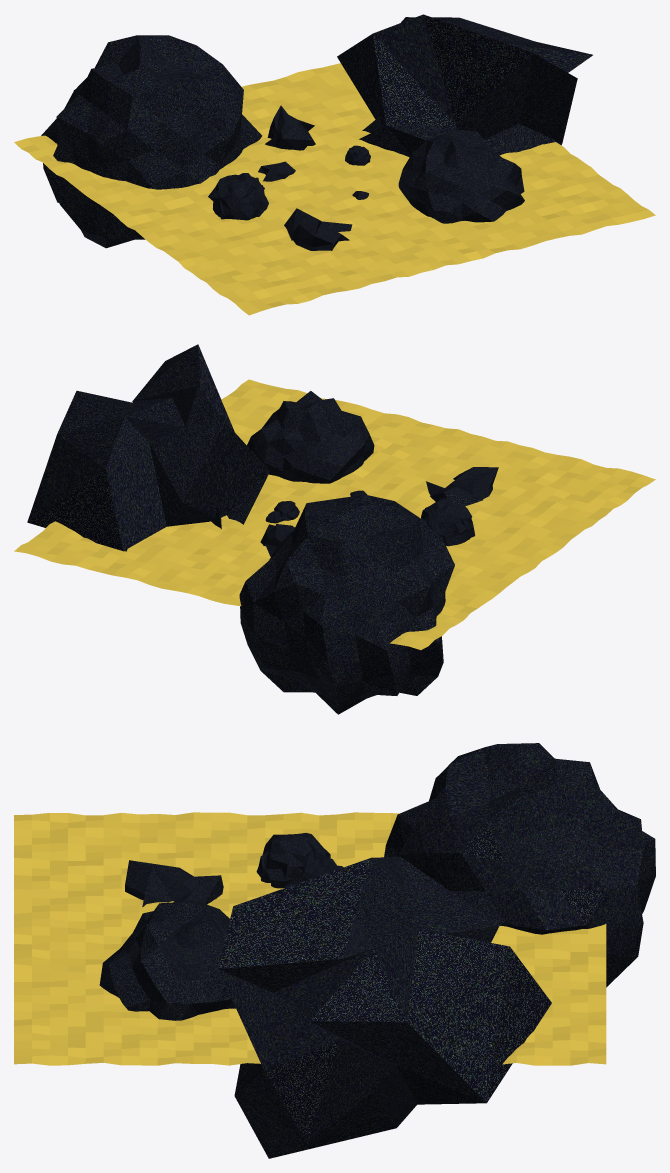
File: OceanTerrain.glb
3 views of the same model, one above another, from view 1: azimuth 30°, elevation 25°; view 2: azimuth 150°, elevation 25°; view 3: azimuth 270°, elevation 25° (orthographic). The views are drawn at different scales.
Visible parts, largest first — view 1: Plane, Icosphere.010, Icosphere.008, Icosphere.007, Plane.001, Icosphere.001, Icosphere.009, Icosphere, Icosphere.006; view 2: Plane, Icosphere.010, Icosphere.008, Icosphere.007, Plane.001, Icosphere.001, Icosphere.009, Icosphere; view 3: Icosphere.008, Plane, Icosphere.010, Icosphere.007, Icosphere.009, Icosphere.001.
Part boxes in pixels (x1,y1,x2,y2): Plane: [14, 63, 655, 315]; Icosphere.010: [41, 35, 262, 248]; Icosphere.008: [337, 14, 592, 157]; Icosphere.007: [398, 129, 524, 223]; Plane.001: [235, 141, 407, 220]; Icosphere.001: [208, 174, 268, 220]; Icosphere.009: [284, 208, 352, 250]; Icosphere: [265, 105, 315, 150]; Icosphere.006: [258, 161, 295, 181]; Plane: [14, 379, 655, 649]; Icosphere.010: [239, 494, 454, 714]; Icosphere.008: [27, 344, 269, 551]; Icosphere.007: [247, 391, 374, 483]; Plane.001: [248, 478, 434, 530]; Icosphere.001: [421, 498, 475, 546]; Icosphere.009: [426, 467, 498, 506]; Icosphere: [260, 524, 294, 556]; Icosphere.008: [218, 857, 551, 1158]; Plane: [14, 812, 606, 1065]; Icosphere.010: [384, 743, 655, 987]; Icosphere.007: [99, 901, 235, 1020]; Icosphere.009: [125, 860, 223, 907]; Icosphere.001: [256, 833, 330, 888].
Size of the model in its own units: 225 by 103 by 215.
2 materials, 1 textured.
